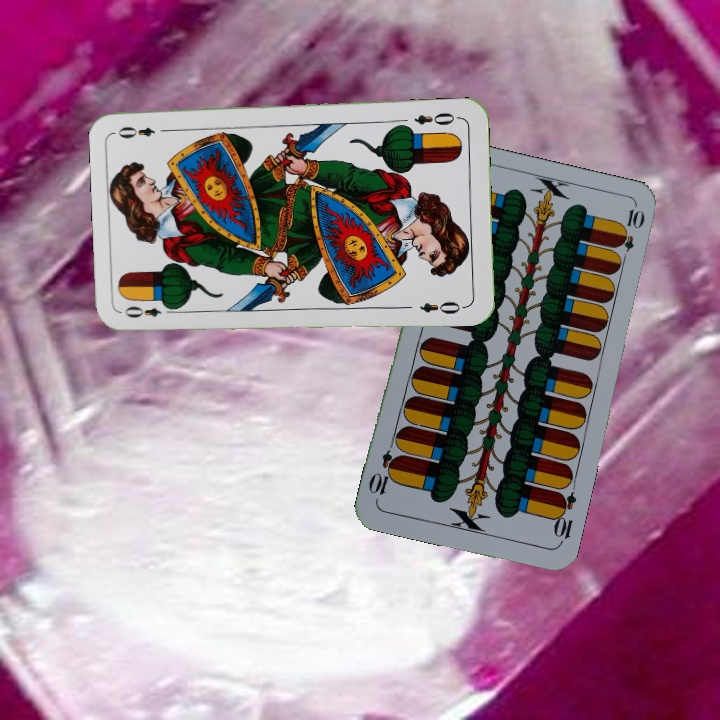E10: (549, 488, 579, 547)
EO: (121, 301, 179, 321), (410, 108, 462, 128)
